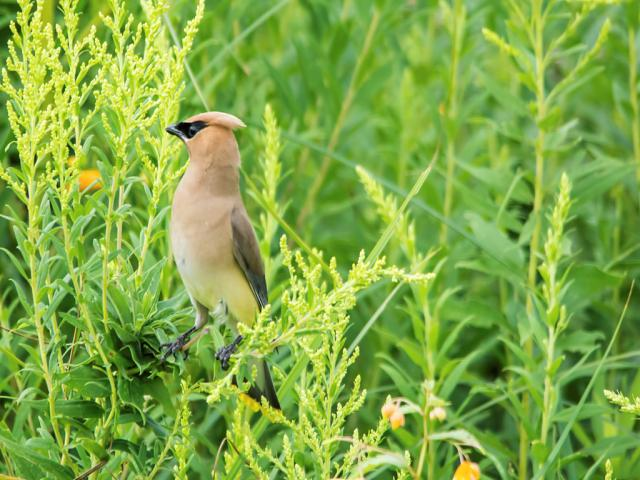Bird: (148, 97, 290, 408)
